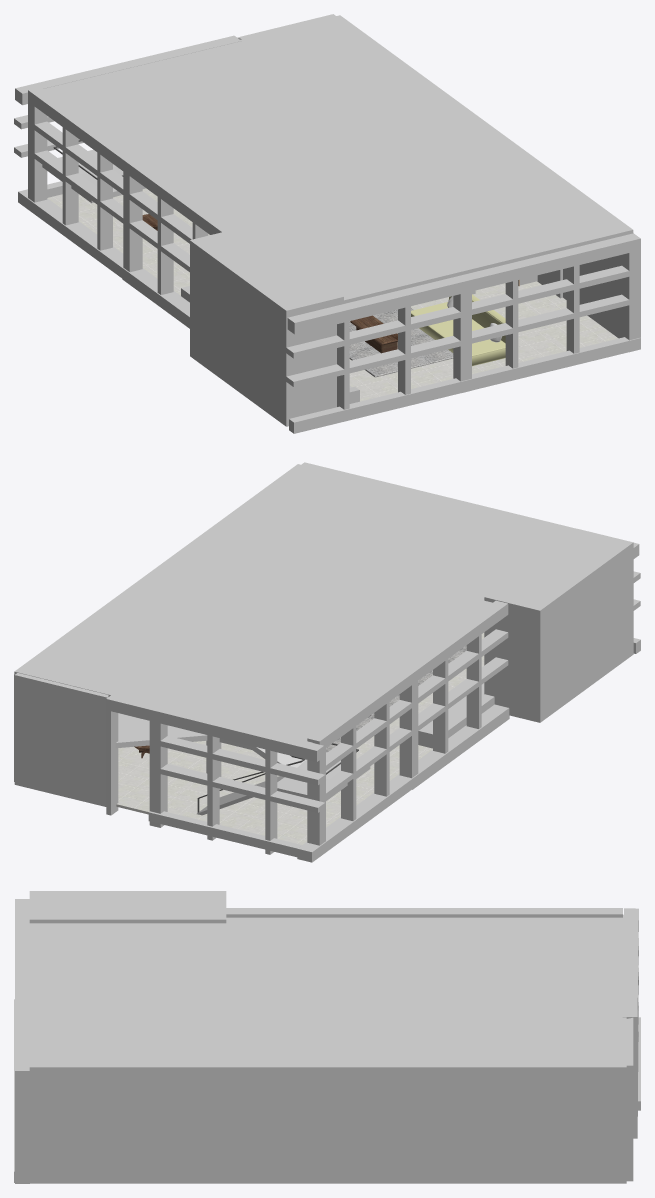
File: interior.fbx
The picture shows the model from 3 angles, top to bottom: view 1: azimuth 30°, elevation 25°; view 2: azimuth 150°, elevation 25°; view 3: azimuth 270°, elevation 25°; orthographic projection. The views are drawn at different scales.
Visible parts, largest first — view 1: interior_M; view 2: interior_M; view 3: interior_M.
Part boxes in pixels (x1,y1,x2,y2): interior_M: [14, 14, 640, 433]; interior_M: [14, 462, 640, 862]; interior_M: [14, 891, 640, 1183].
Bounding box in the file's own units: 2868 × 971 × 4405.
